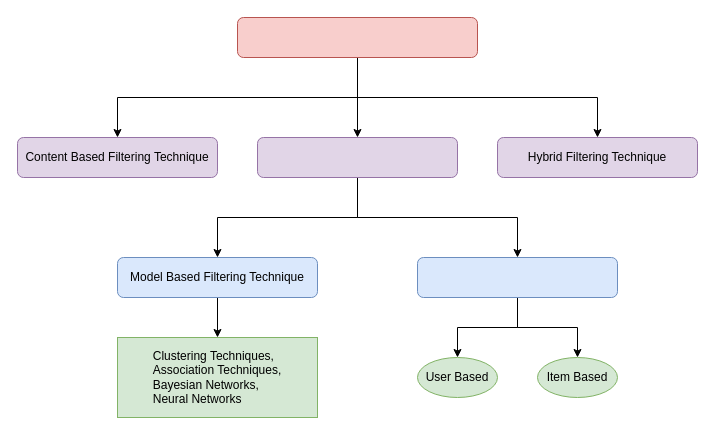
This 715x435 diagram has some shape labels left out. The centre of each missing label's shape, as x and y in pixels:
"Collaborative Filtering Technique" goes at (x=357, y=157).
"Memory Based Filtering Technique" goes at (x=517, y=277).
"Recommeder System" goes at (x=357, y=37).
